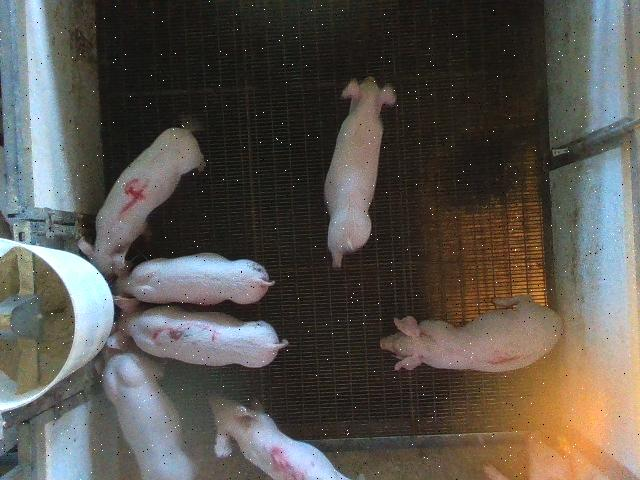pig-1: (380, 295, 562, 372)
pig-3: (108, 298, 289, 367)
pig-4: (88, 128, 205, 278)
pig-5: (210, 398, 348, 479)
